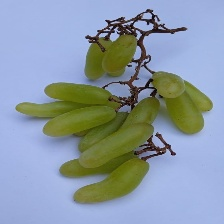grapes: (4, 40, 184, 213)
